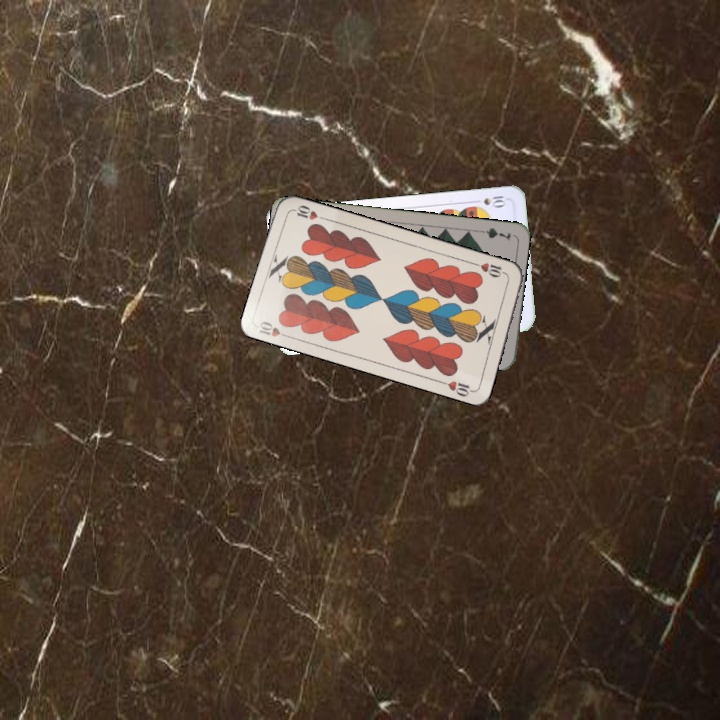G7: (473, 224, 513, 243)
H10: (254, 317, 294, 341), (470, 259, 510, 280)
S10: (469, 190, 509, 209)
